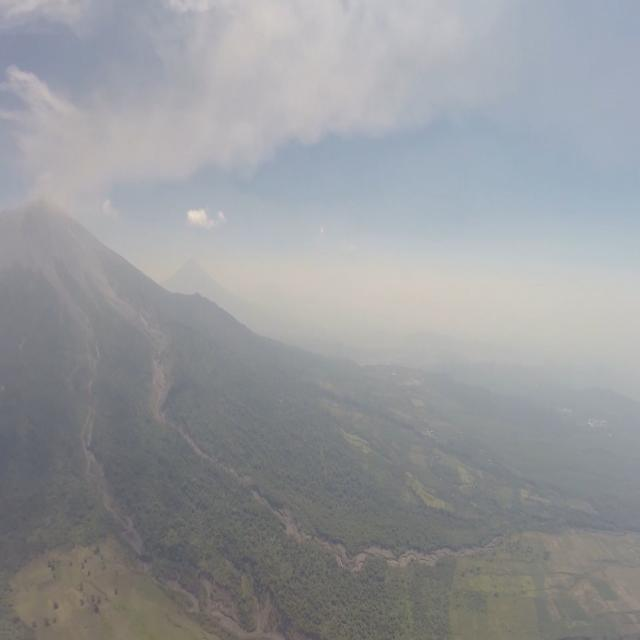Plume: (112, 0, 462, 182), (5, 63, 196, 216)
